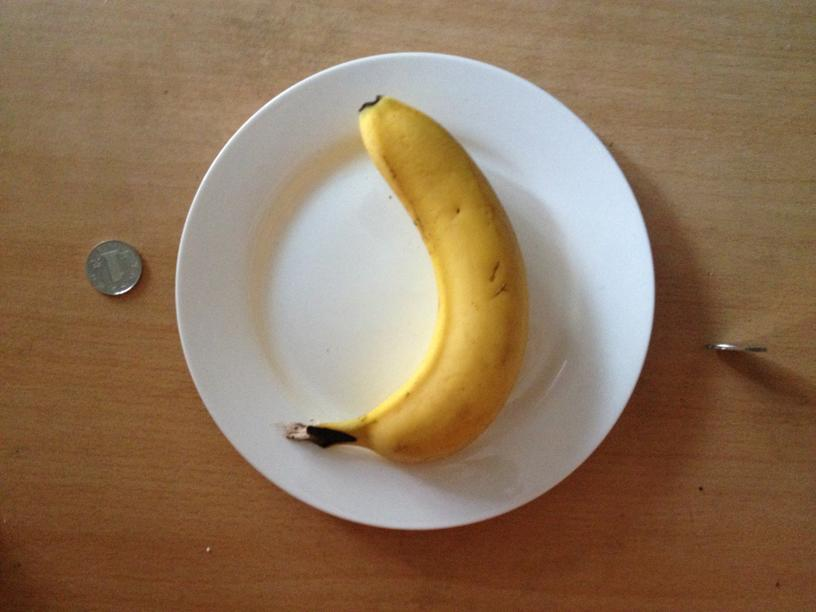banana: (316, 90, 530, 466)
coin: (84, 236, 145, 296)
